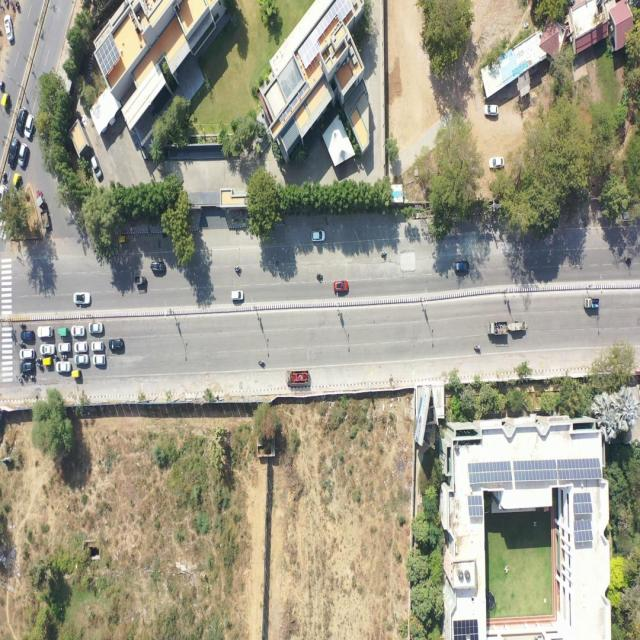3W: (133, 273, 149, 289), (117, 232, 130, 246), (1, 92, 10, 112), (13, 170, 21, 190), (70, 368, 82, 380), (57, 327, 70, 337), (42, 356, 52, 368)
Cars: (23, 112, 35, 145), (4, 14, 15, 46), (73, 289, 92, 307), (8, 137, 18, 171), (91, 154, 104, 180), (487, 154, 506, 170), (15, 106, 25, 135), (18, 142, 28, 171), (618, 208, 636, 224), (36, 324, 54, 339), (333, 279, 349, 295), (483, 102, 500, 117), (108, 338, 125, 352), (38, 342, 56, 355), (70, 324, 86, 338), (150, 260, 167, 273), (56, 360, 71, 374), (454, 260, 470, 273), (73, 340, 90, 352), (0, 184, 6, 216), (310, 230, 326, 242), (88, 323, 103, 335), (92, 355, 107, 367), (19, 349, 36, 359), (19, 362, 36, 372), (58, 340, 71, 353), (231, 289, 244, 302), (91, 340, 105, 352), (74, 355, 90, 365), (20, 331, 35, 340)
LCV: (486, 318, 530, 338), (583, 297, 600, 309)
M2W: (161, 230, 170, 240), (473, 343, 482, 352), (235, 265, 243, 275), (2, 170, 8, 183), (380, 250, 389, 258), (316, 273, 324, 282), (624, 256, 632, 264), (37, 363, 44, 372), (258, 359, 265, 368), (17, 375, 23, 385), (29, 374, 36, 382), (22, 371, 28, 380), (0, 80, 4, 92), (10, 1, 15, 10), (62, 354, 68, 361), (19, 342, 26, 348), (16, 1, 20, 10), (53, 355, 60, 360), (19, 323, 26, 328), (36, 358, 42, 363), (5, 0, 9, 7)
Truck: (35, 188, 53, 230), (285, 368, 311, 386)
